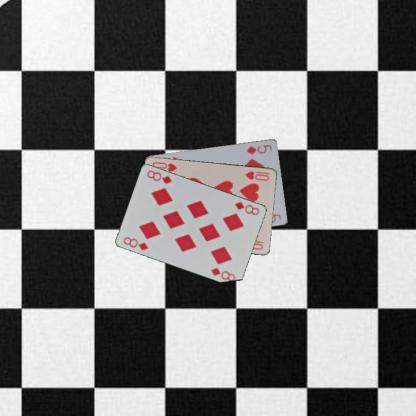10h: (243, 168, 270, 182)
5d: (244, 142, 273, 156)
8d: (232, 198, 261, 216), (121, 234, 150, 252)
